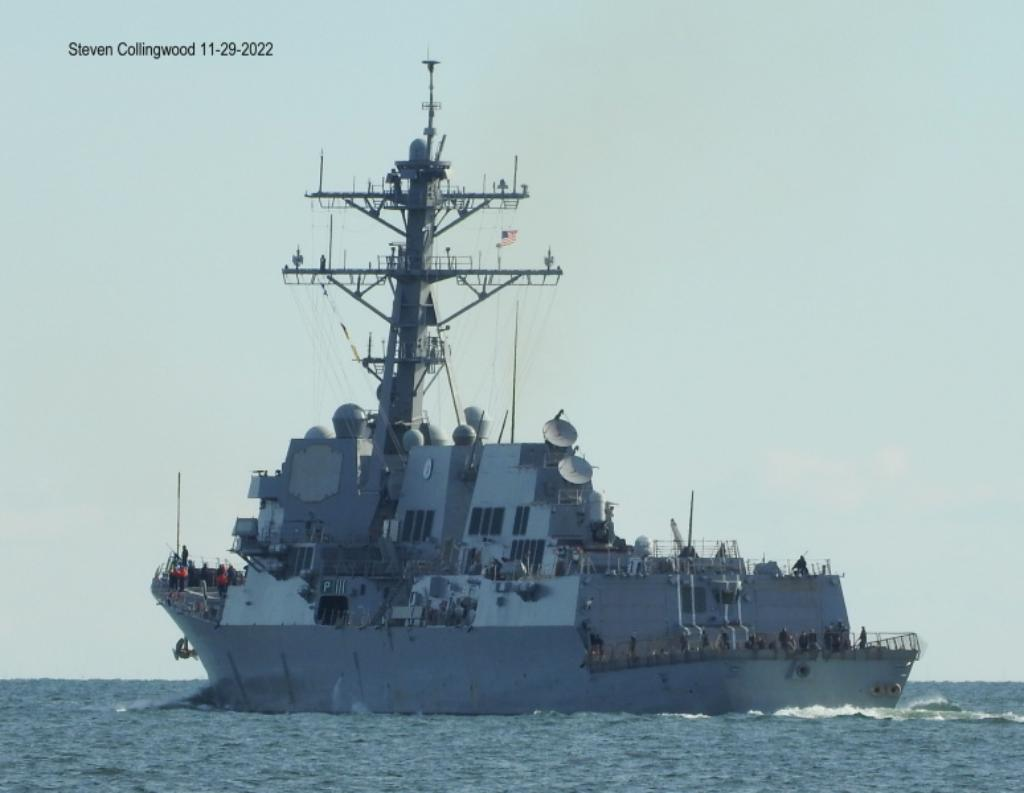Warship: (147, 53, 923, 715)
